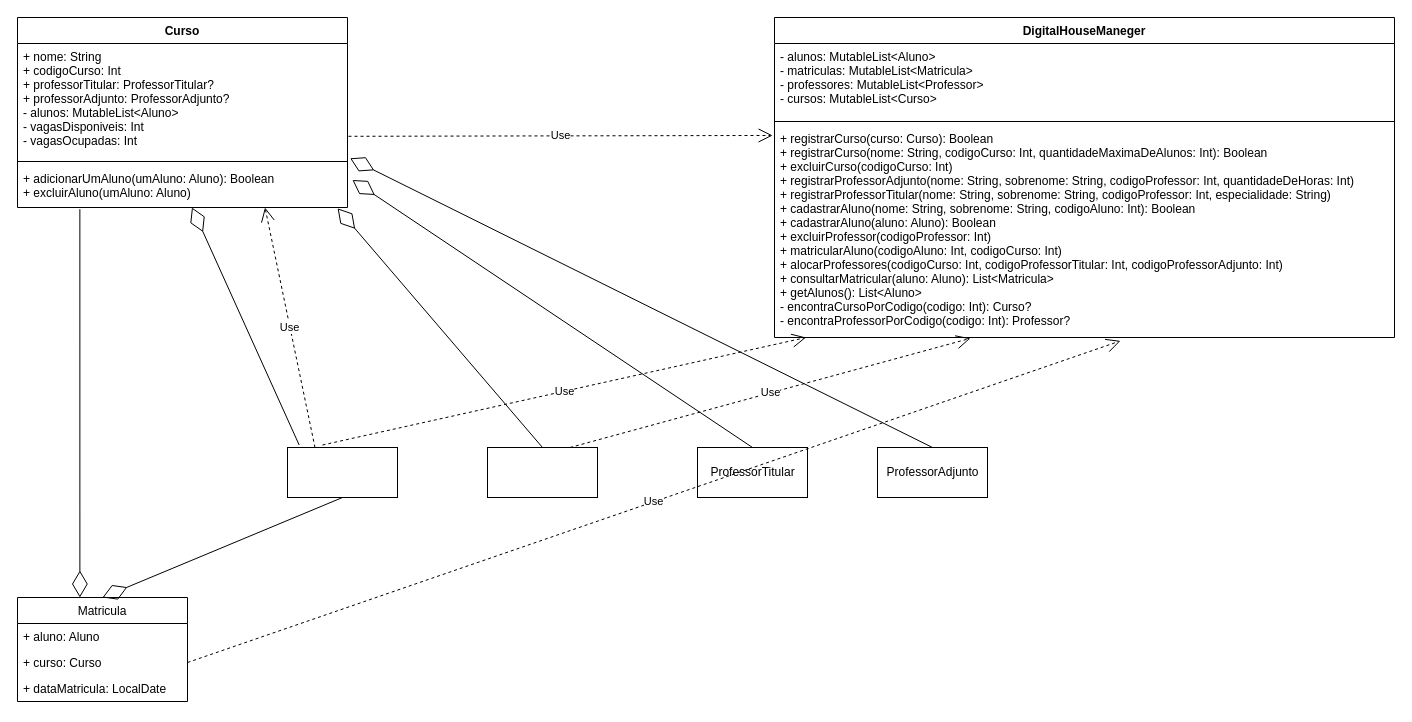
The diagram is 1412 pixels wide and 722 high, and some of its shapes have lost their labels. Here are the shapes that lost their labels. From the top down, the centre of each, then its label:
At (x=342, y=472): "Aluno".
At (x=542, y=472): "Professor".
